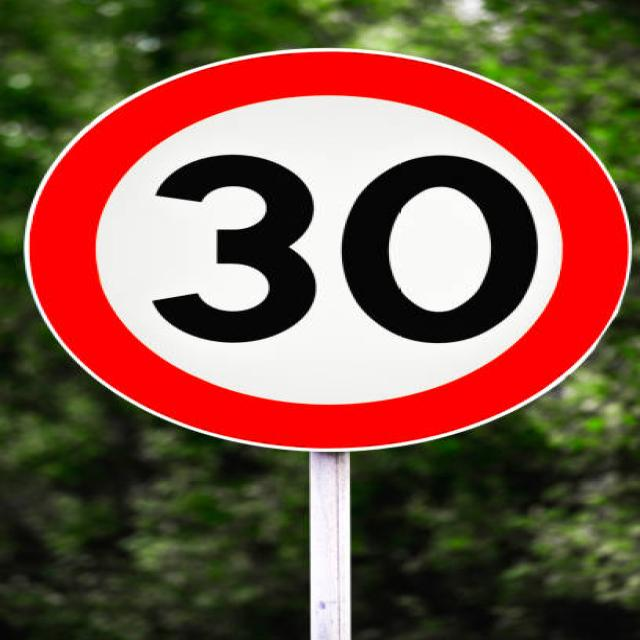Speed limit 30: (22, 46, 634, 455)
